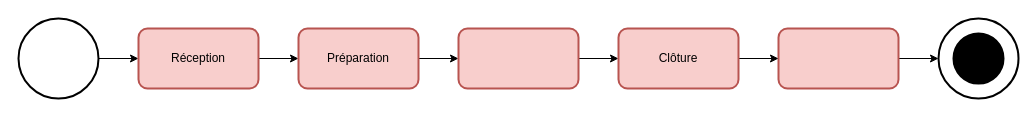
Some shapes in this 1036 by 116 pixel diagram are drawn without their labels. Here are the shapes that lost their labels. From the top down, the centre of each, then its label:
[518,58]: Facturation
[838,58]: Envois
